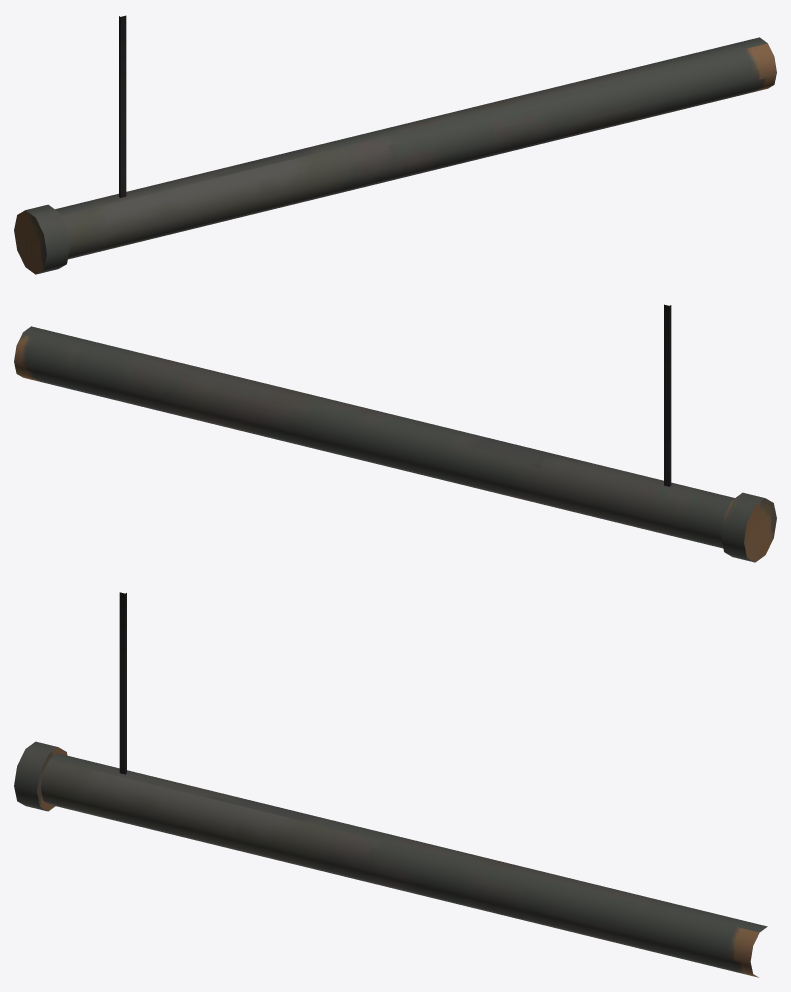
The picture shows the model from 3 angles, top to bottom: view 1: azimuth 30°, elevation 25°; view 2: azimuth 150°, elevation 25°; view 3: azimuth 330°, elevation 25°; orthographic projection.
Parts seen in each view (by area): view 1: body0_model0_lod0_mesh0; view 2: body0_model0_lod0_mesh0; view 3: body0_model0_lod0_mesh0.
Boxes of the visible parts, x1,y1,x2,y2 form: body0_model0_lod0_mesh0: (14, 15, 776, 274); body0_model0_lod0_mesh0: (14, 304, 776, 562); body0_model0_lod0_mesh0: (14, 592, 767, 977).
Size of the model in its own units: 64 by 19.37 by 5.
1 material, 1 textured.
